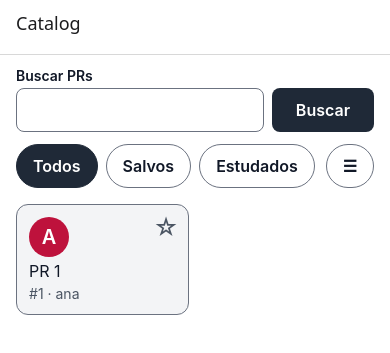
it: C65: in Estudados typing does not filter until Buscar
The image size is (390, 353).
Expected: the button with test id "catalog.card.0" is shown, [17,205,188,314]
Click the button "Estudados": coordinates (257, 166) [199,144,315,188]
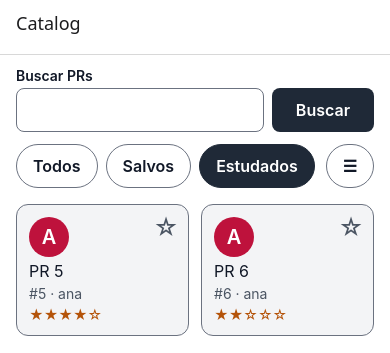
In the field named "Buscar PRs": coordinates (140, 110) [16,88,264,132], type "6"
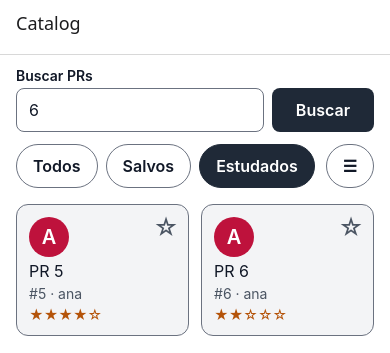
Result: the text "PR 5" is shown at [29,261,64,281]
Click the button with test id "catalog.search-submit": coordinates (323, 110) [272,88,374,132]
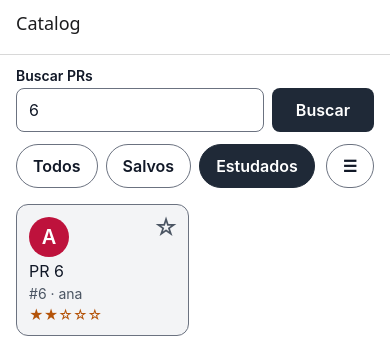
Result: the text "PR 6" is shown at [29,261,64,281]
Result: the button "PR 5" is gone
